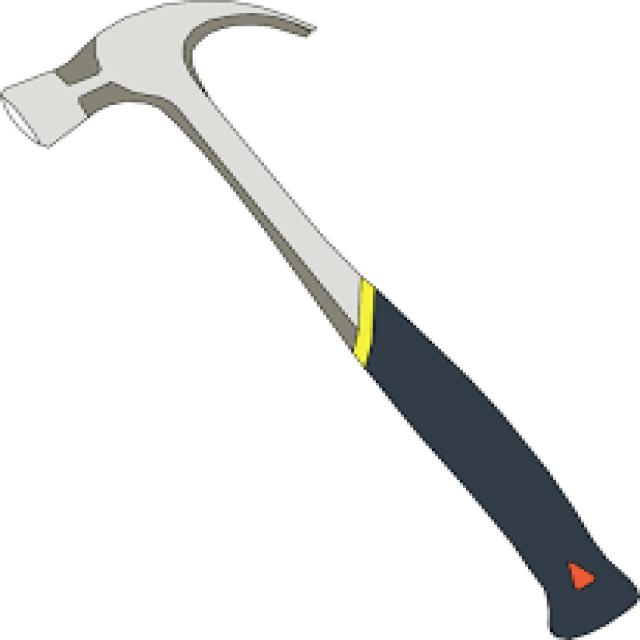hammer: (7, 0, 561, 583)
